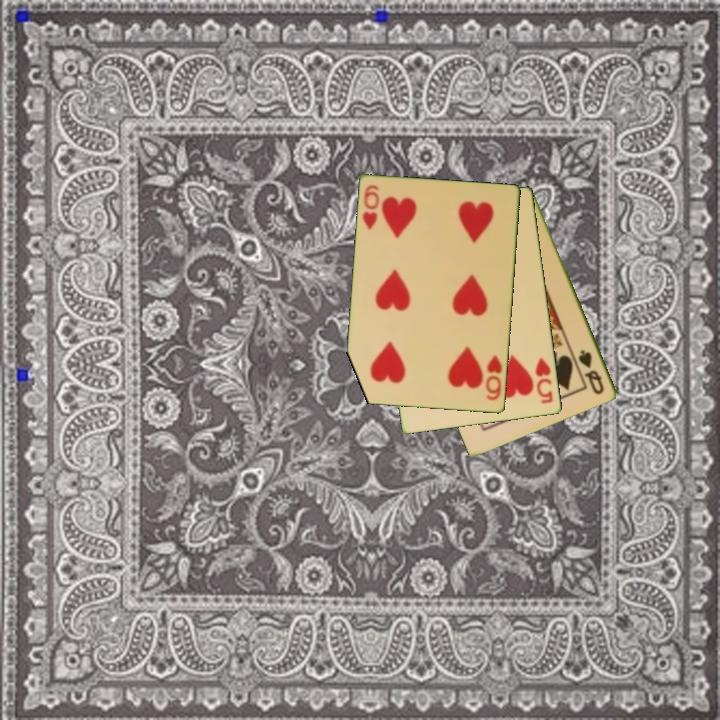5h: (532, 354, 556, 407)
6h: (359, 182, 383, 233), (482, 352, 505, 403)
Qs: (575, 346, 607, 398)
